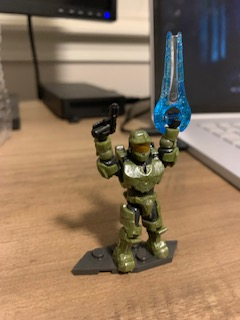chief: (91, 117, 180, 275)
pistol: (90, 102, 119, 142)
spartan: (89, 115, 178, 273)
up: (90, 120, 179, 196)
